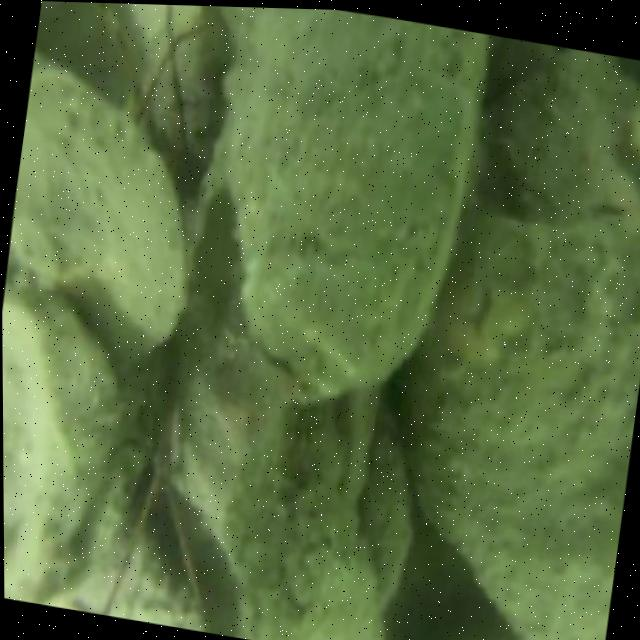Oyster-Closed: (227, 7, 477, 382), (2, 287, 130, 575)
Oyster-Indeterminate: (413, 213, 640, 640), (173, 349, 375, 640), (11, 66, 187, 350), (487, 48, 640, 216)
